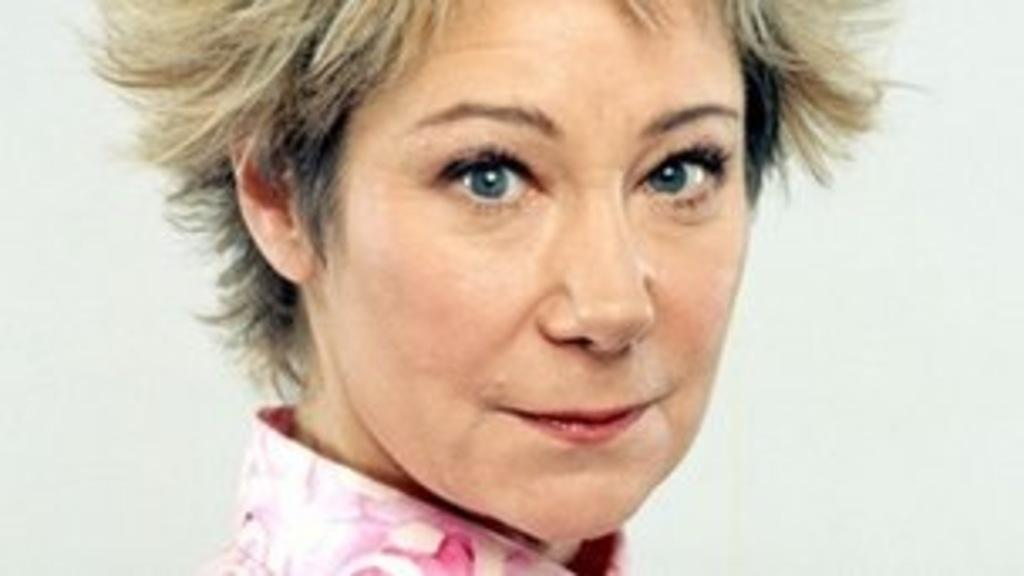Sem Máscara: (301, 0, 756, 541)
